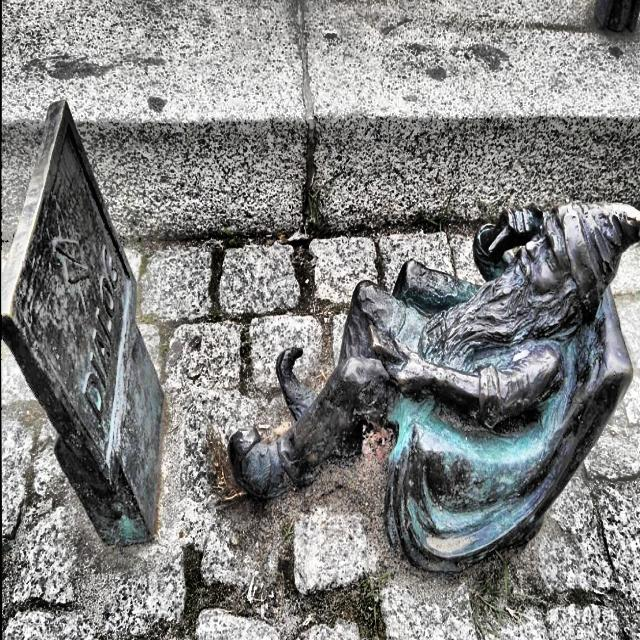Dialogomir: (228, 202, 640, 579), (0, 101, 166, 552)
